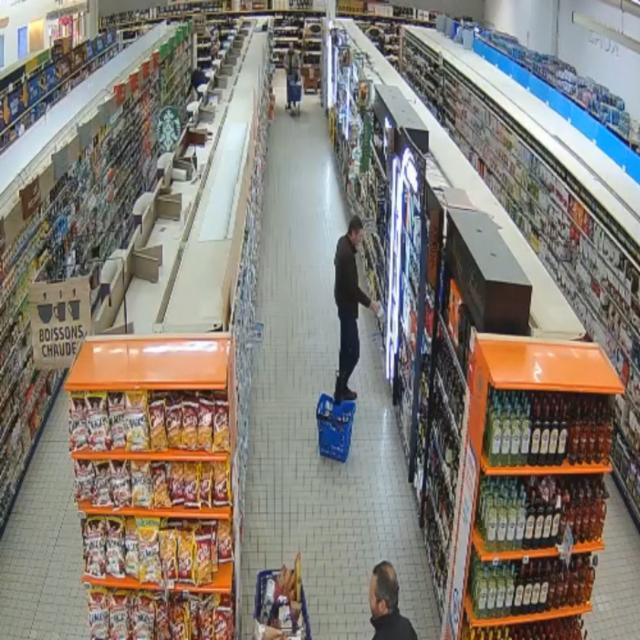article: (376, 301, 386, 323)
hands: (370, 301, 381, 315)
person: (334, 216, 379, 403), (370, 562, 417, 639)
